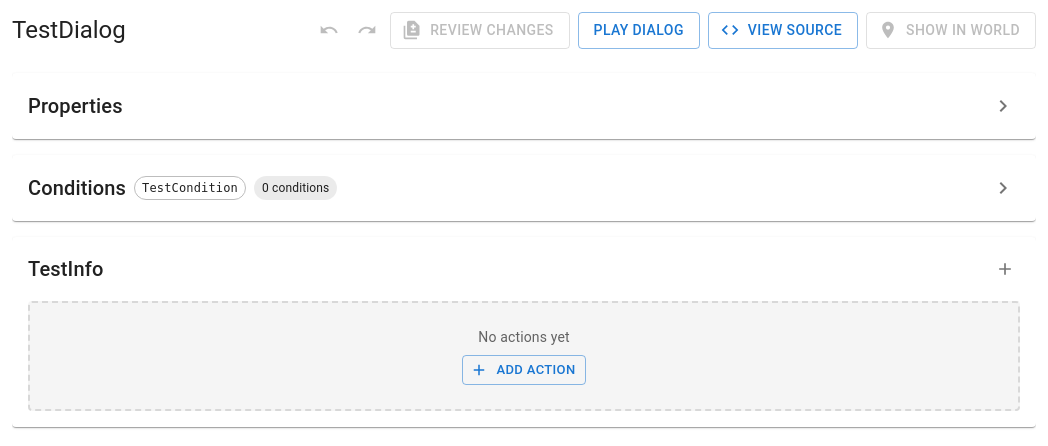
Scenario: the NPC/Dialog view jumps to the world › is disabled with its reason when the dialog names no NPC
Hover over the element showing "Show in World": (951, 30) [866,12,1036,48]
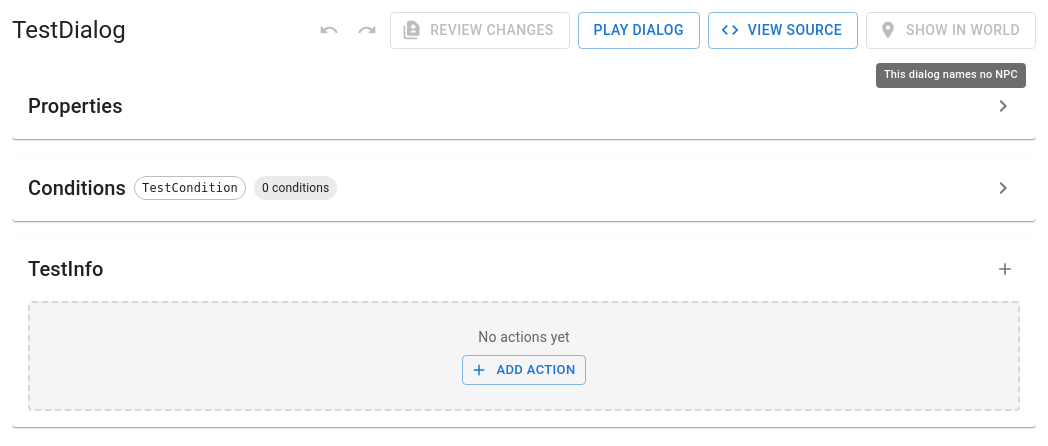
Check: the text "This dialog names no NPC" is shown, box [876,63,1026,88]
